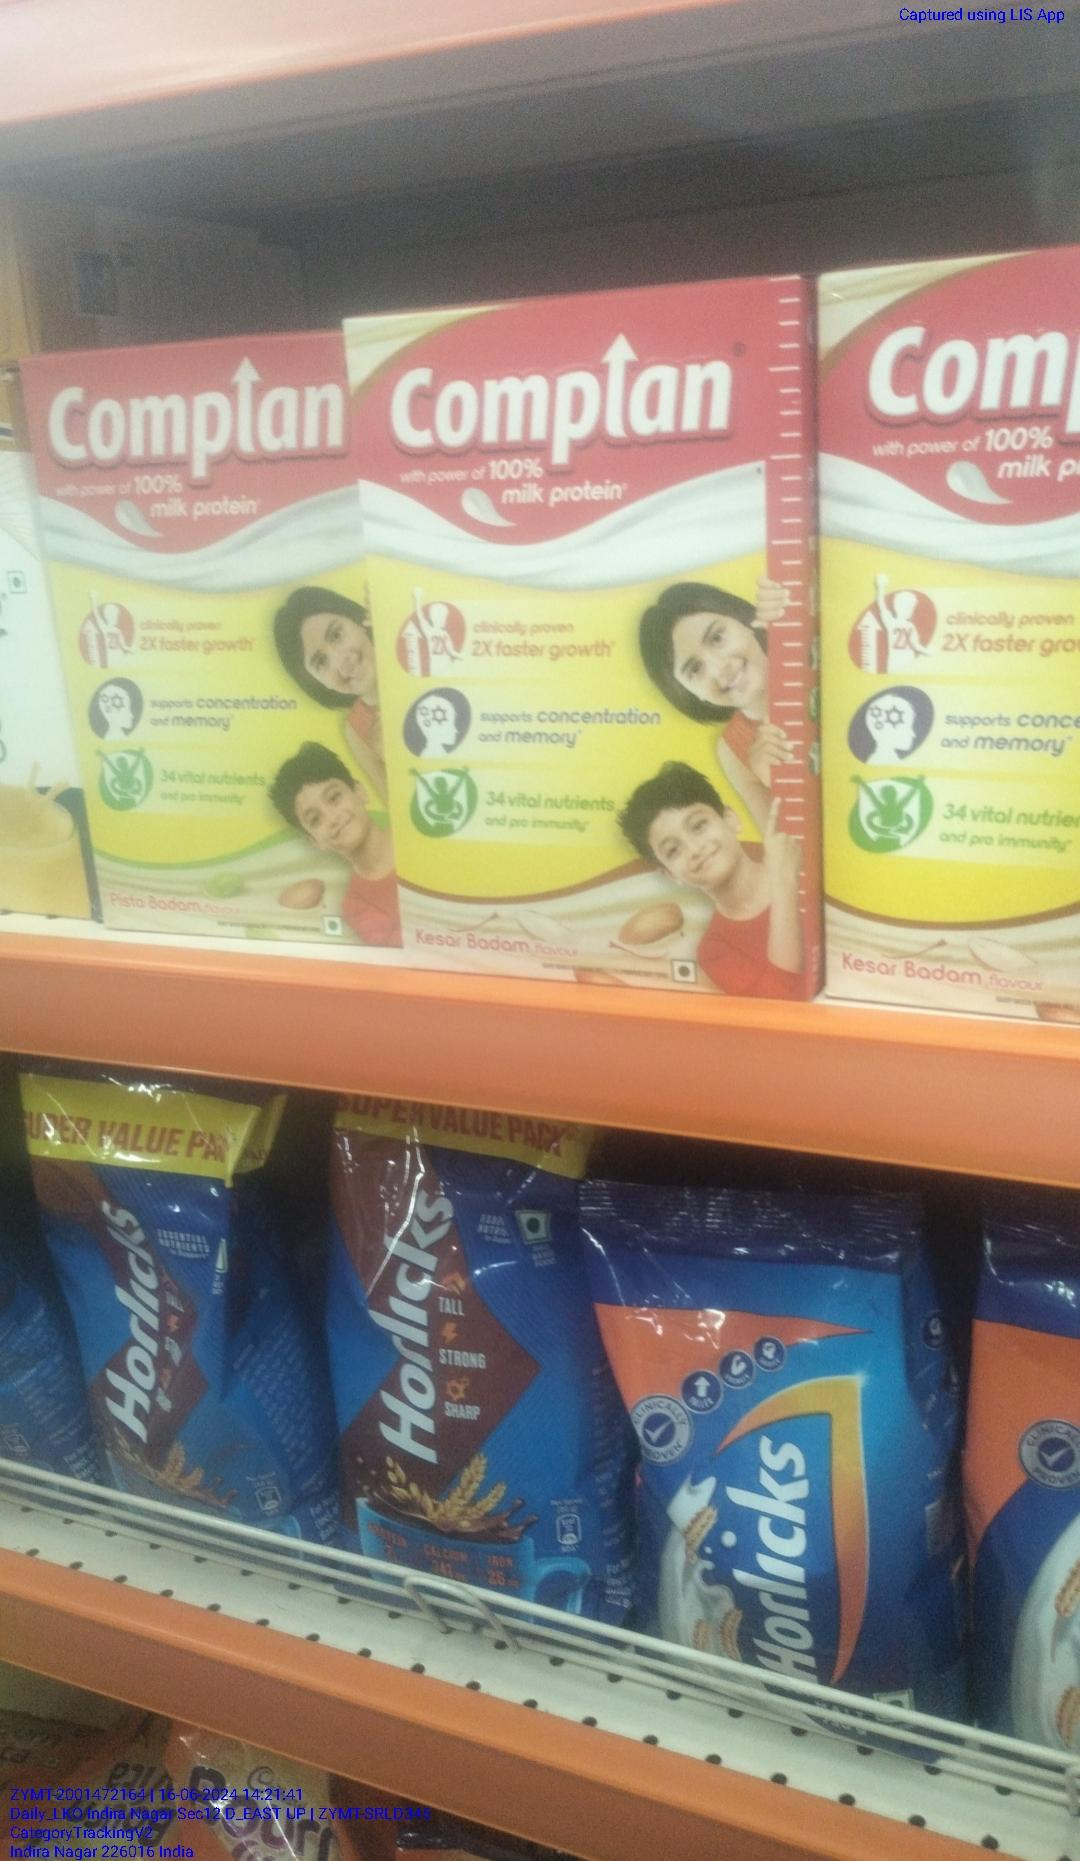COMPLAN_PISTA_BADAM_500_GMS_PACK: (32, 344, 348, 959)
HORLICK_CHOCOLATE_750_G_POUCH: (327, 1100, 584, 1609), (41, 1094, 274, 1536)
